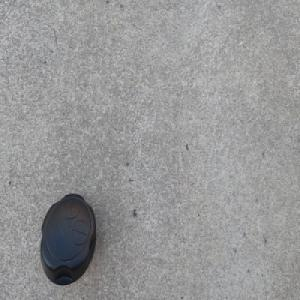FuelCap: (39, 191, 96, 286)
